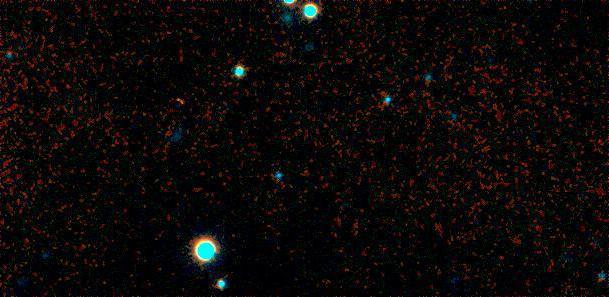star: (166, 86, 196, 116)
